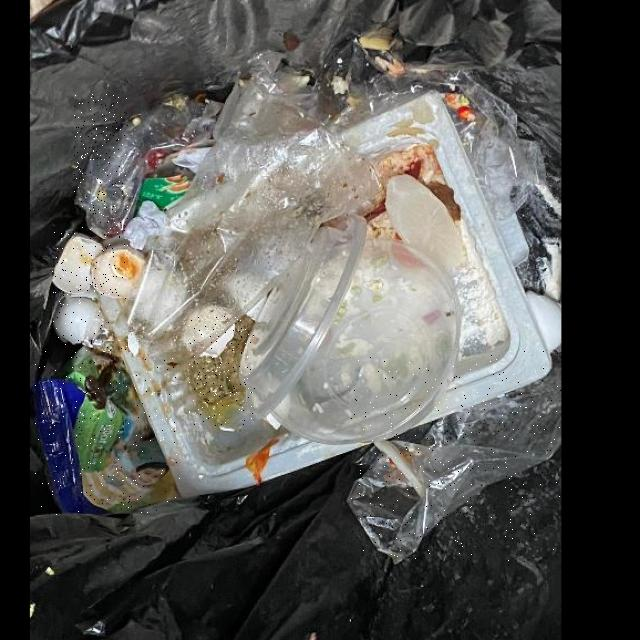biowaste: (190, 314, 255, 426), (91, 243, 153, 299), (53, 288, 111, 344), (52, 232, 103, 294), (201, 323, 237, 358)
plastic: (129, 75, 380, 356), (347, 351, 561, 562), (74, 93, 224, 239)
wrapper: (34, 345, 180, 515)
